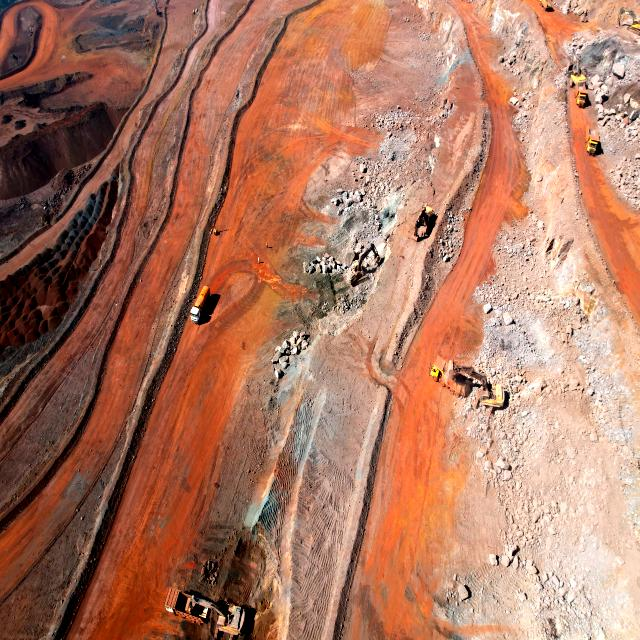Dumper truck: (163, 588, 208, 624), (430, 360, 470, 395), (586, 126, 598, 154), (576, 83, 588, 106), (539, 0, 552, 11)
Excavator: (189, 595, 245, 638), (456, 367, 506, 410), (347, 242, 382, 284), (568, 49, 587, 88), (414, 204, 432, 240), (619, 9, 639, 31)
